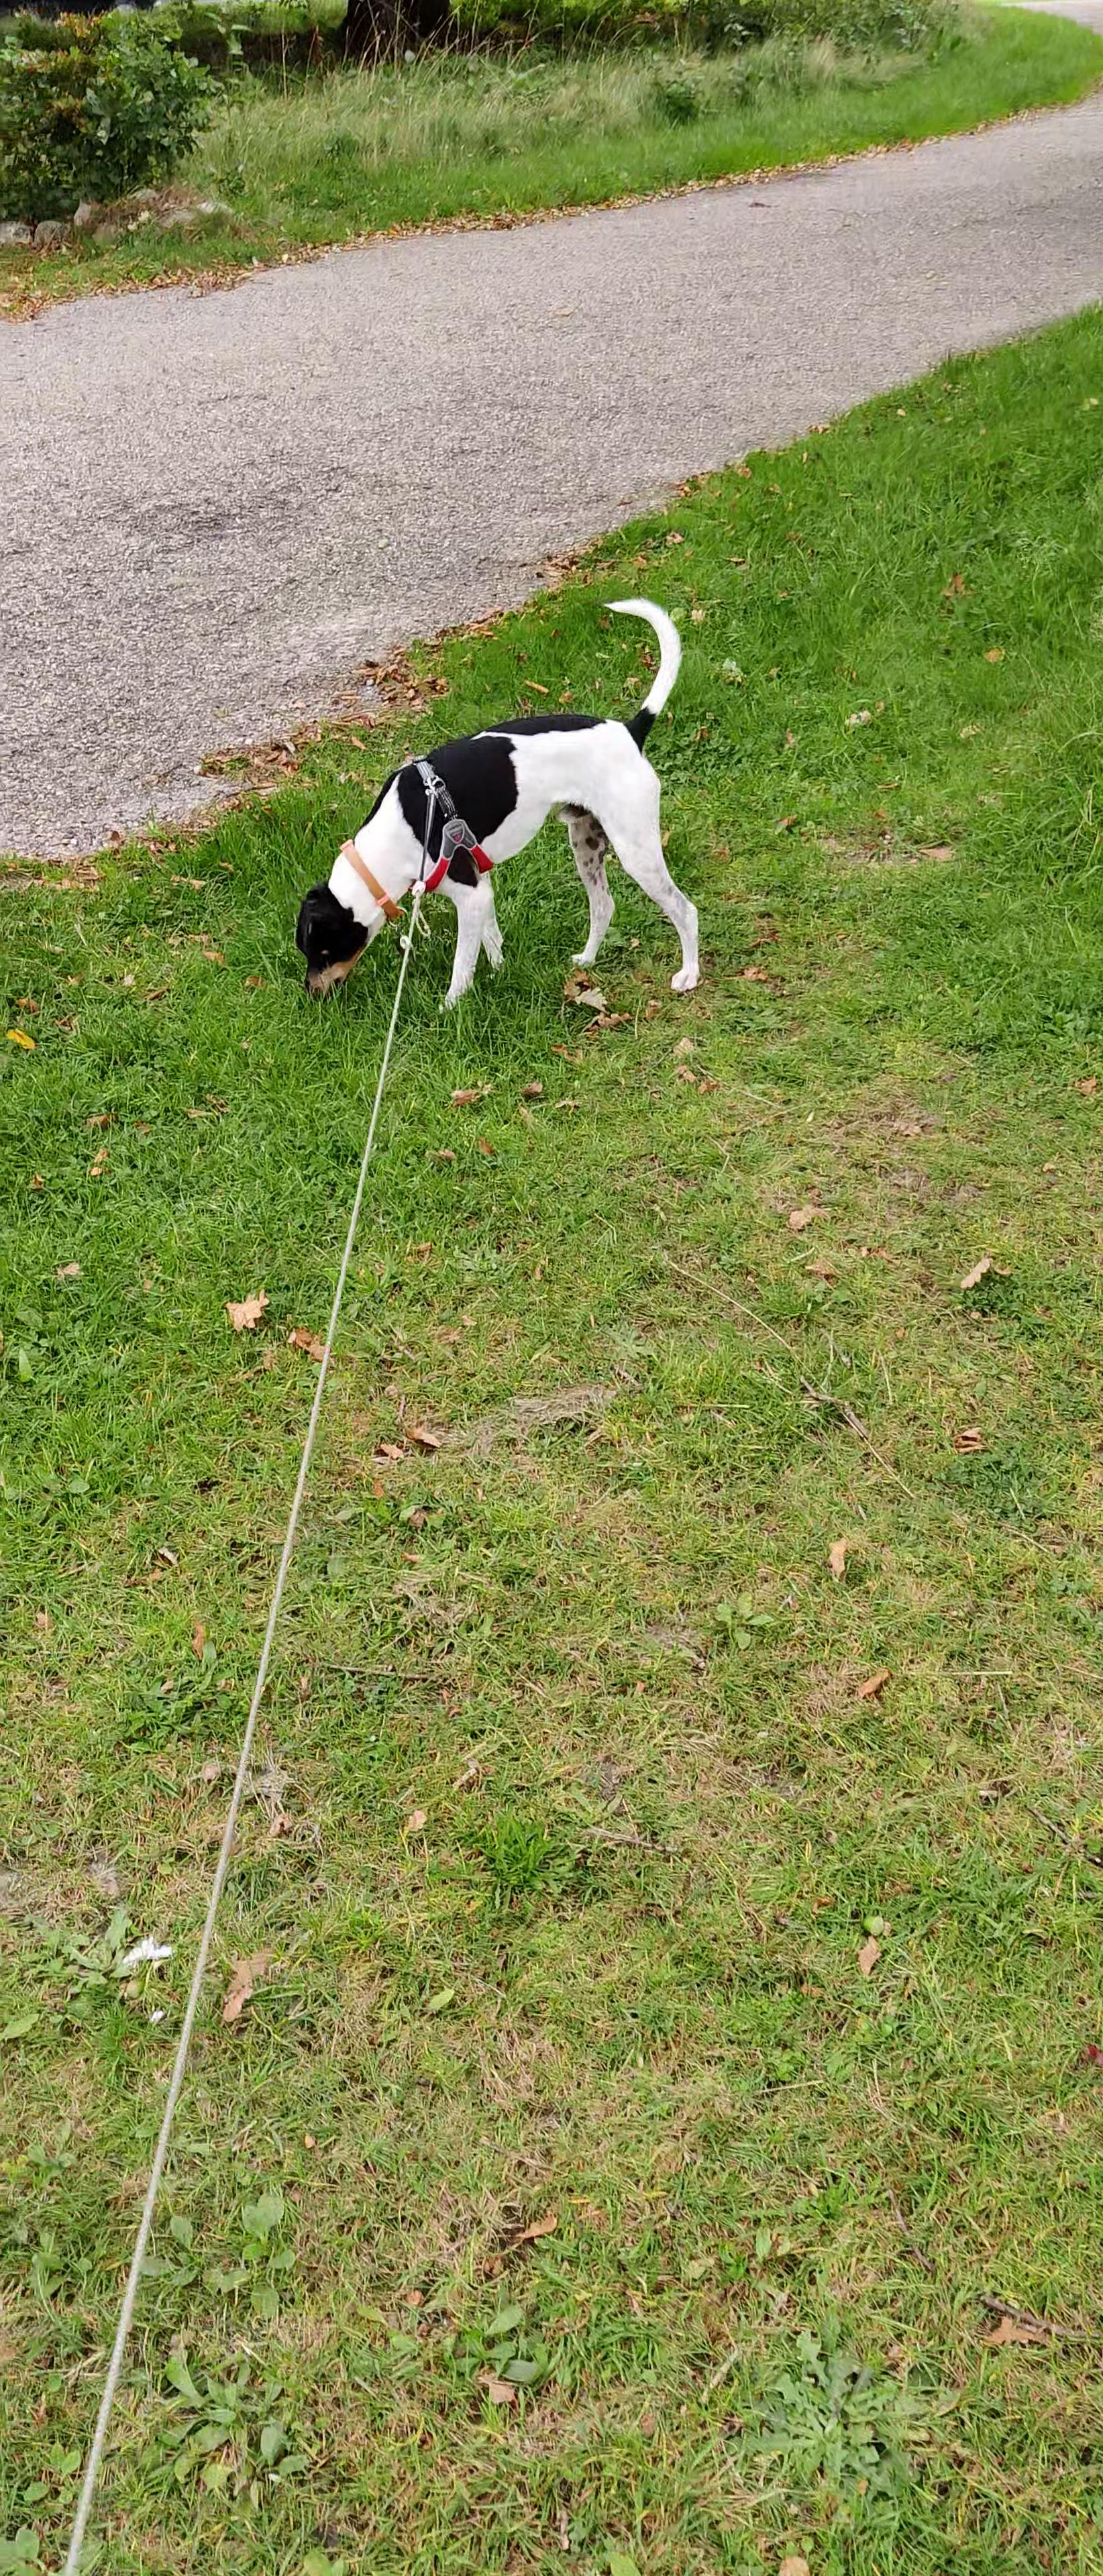Dog: (279, 586, 710, 1019)
